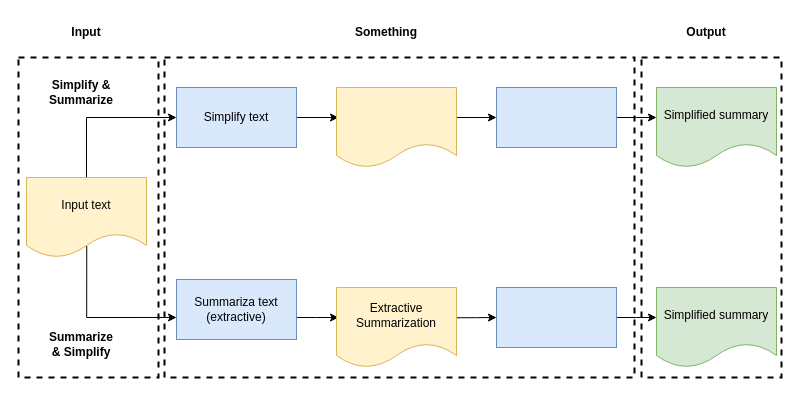
Image size: 799x395. Some labels were removed from this diagram. Here are the shapes that lost their labels. From the top down, the centre of each, then its label:
point (396, 127): Simplified text
point (556, 117): Summarize simplified text (extractive)
point (556, 317): Simplify summarization
